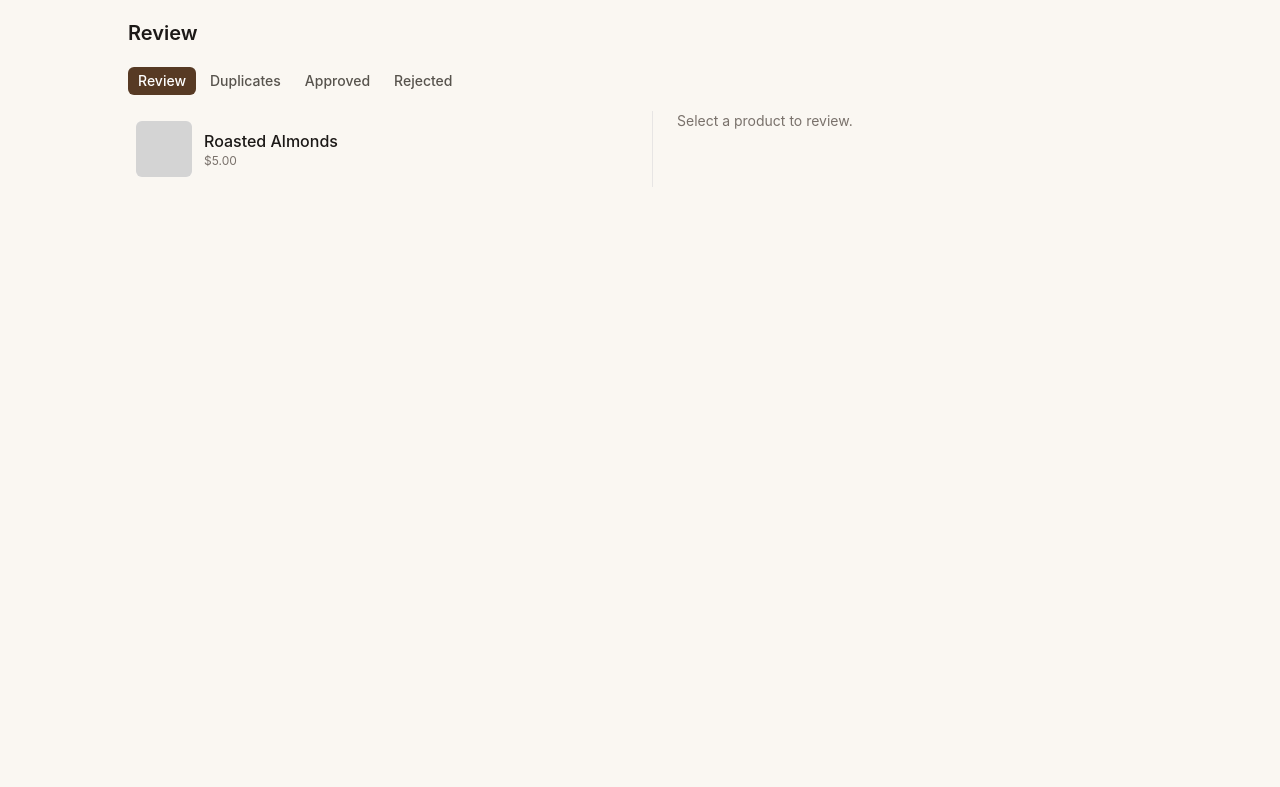
Scenario: ReviewPage › selecting a product opens the detail panel prefilled with its fields
Click the text "Roasted Almonds" at (271, 141), box [204,131,338,151]
(page scrolled)
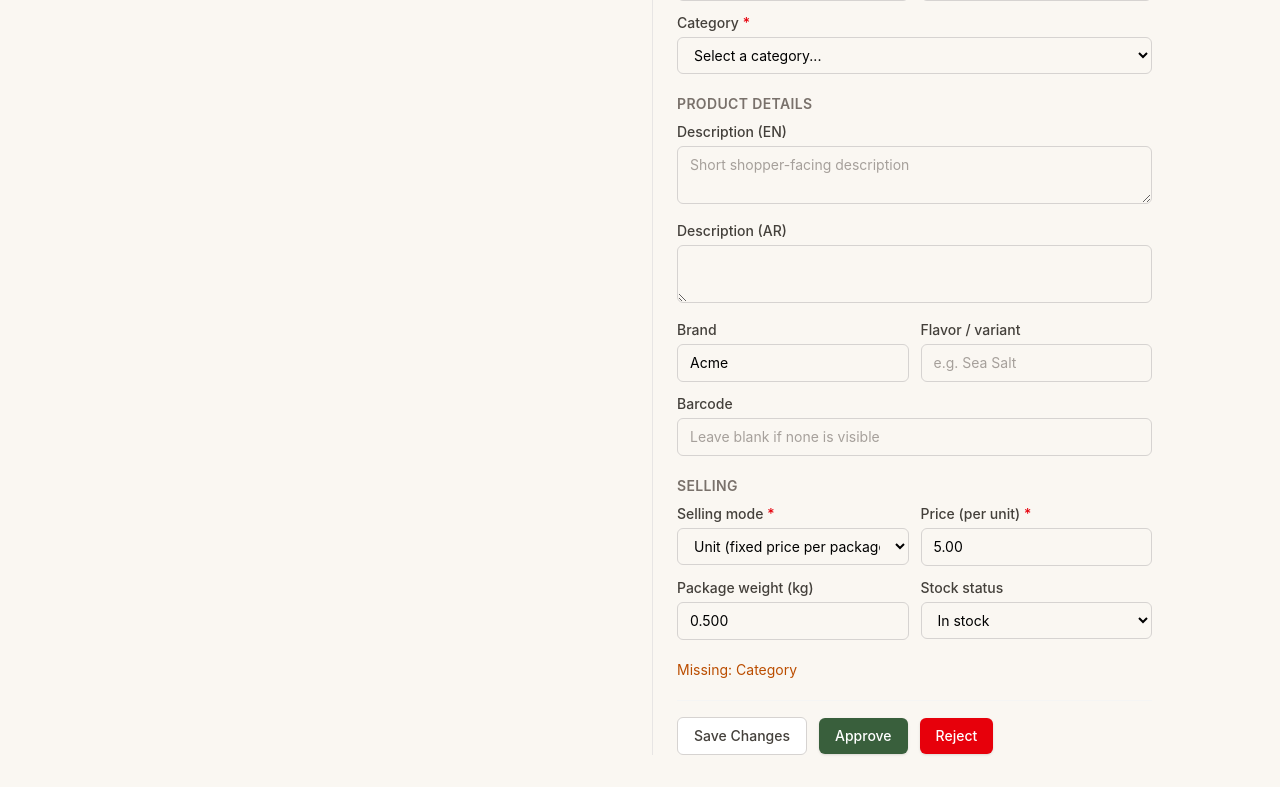
Expected: the field showing "Acme" is shown, [677,344,908,382]
Expected: the number field showing "5.00" is shown, [920,528,1152,566]
